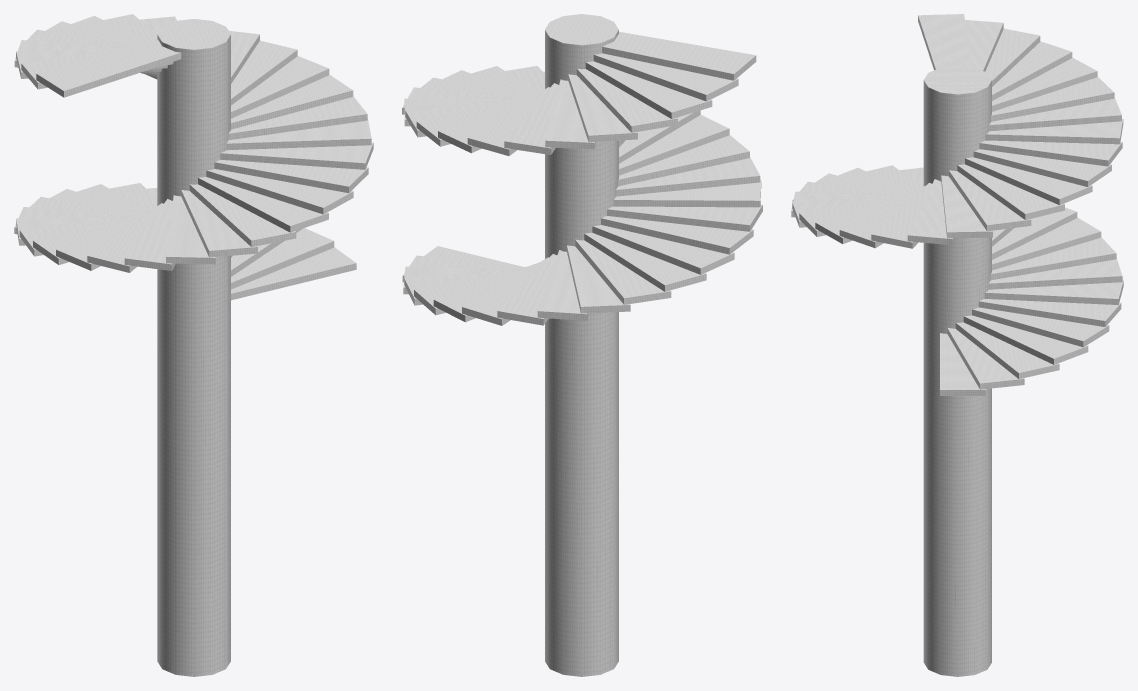
File: colimacon.fbx
The picture shows the model from 3 angles, left to right: view 1: azimuth 30°, elevation 25°; view 2: azimuth 150°, elevation 25°; view 3: azimuth 270°, elevation 25°; orthographic projection. The views are drawn at different scales.
Parts seen in each view (by area): view 1: Colimacon, ColimaconCore; view 2: Colimacon, ColimaconCore; view 3: Colimacon, ColimaconCore.
Boxes of the visible parts, box(x1,y1,x2,y2) form: Colimacon: box(14, 14, 373, 300); ColimaconCore: box(157, 19, 230, 676); Colimacon: box(402, 31, 762, 325); ColimaconCore: box(545, 14, 618, 676); Colimacon: box(791, 14, 1123, 395); ColimaconCore: box(923, 65, 991, 676).
Bounding box in the file's own units: 63.94 × 63.78 × 123.
